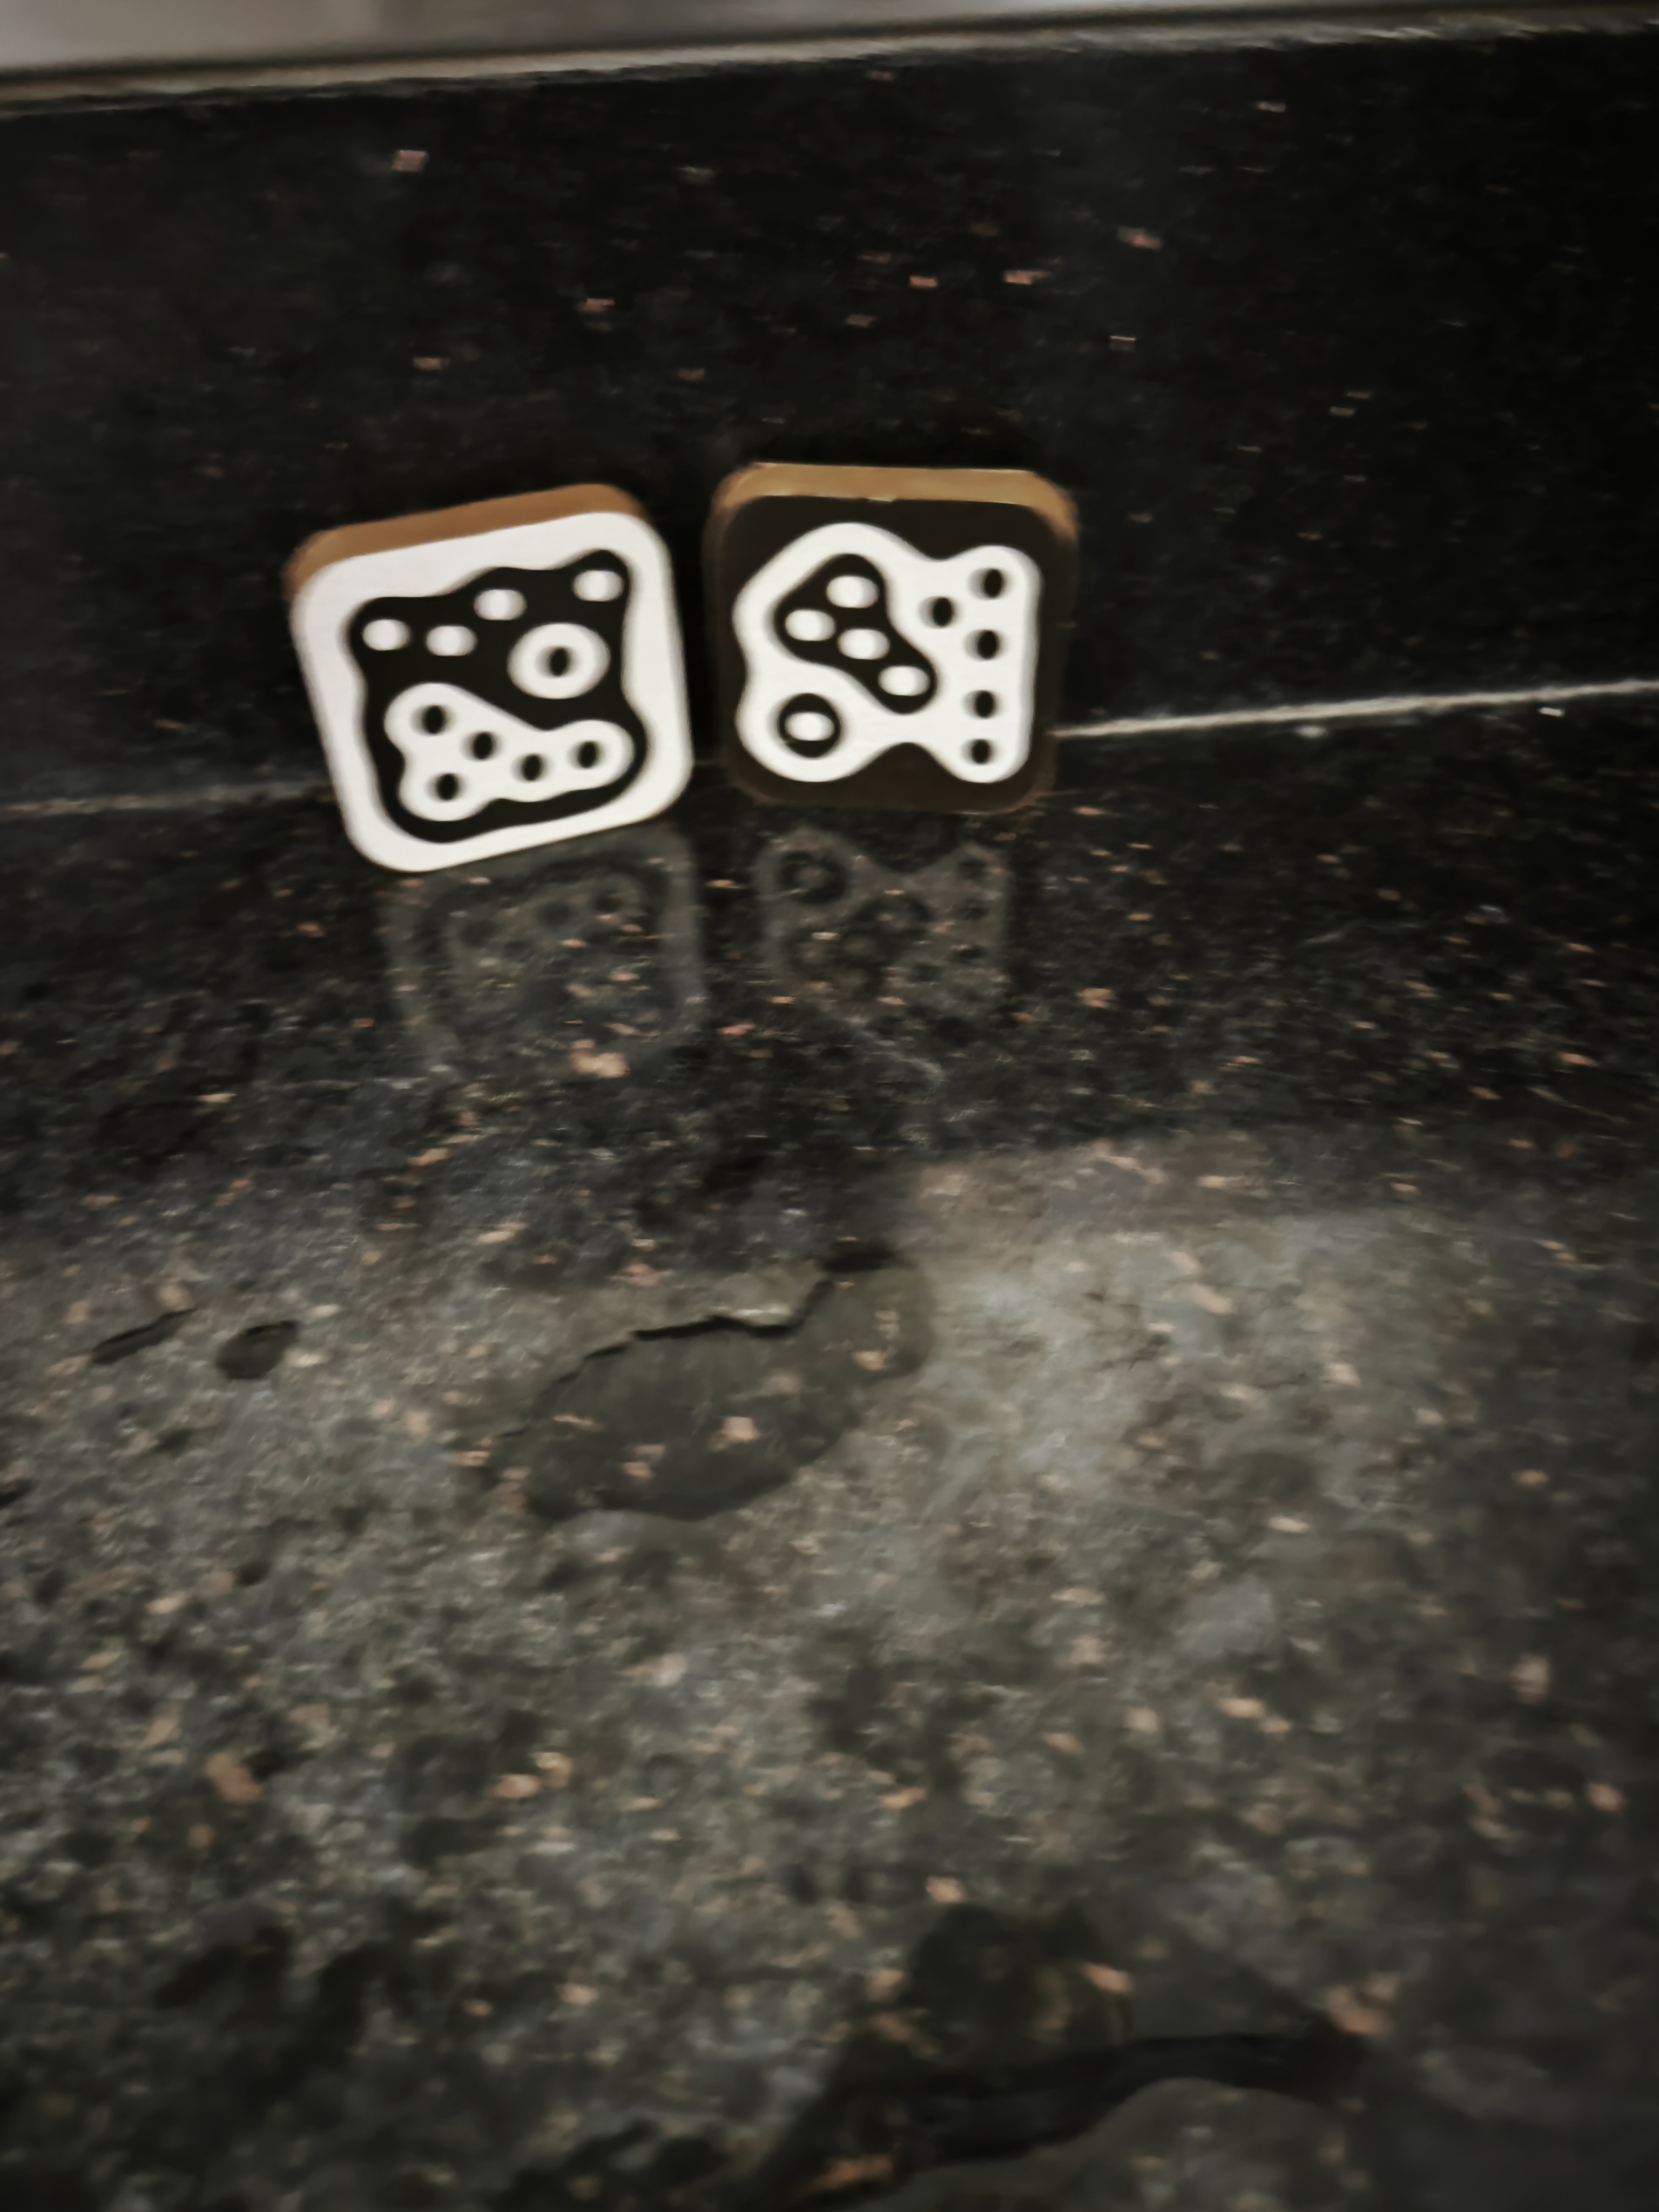mark1: (333, 545, 662, 845)
mark2: (730, 509, 1035, 799)
